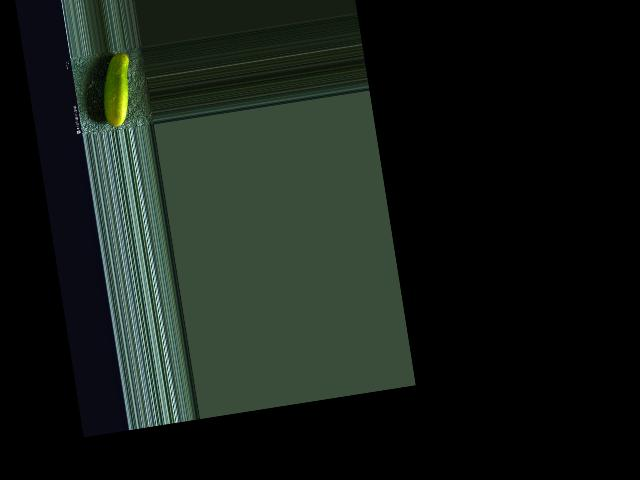cucumber: (95, 51, 138, 127)
